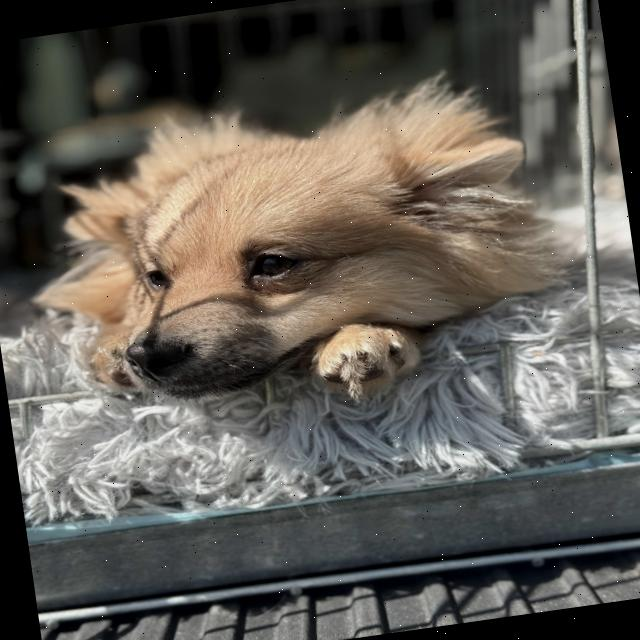pomeranian_dog: (28, 58, 584, 458)
